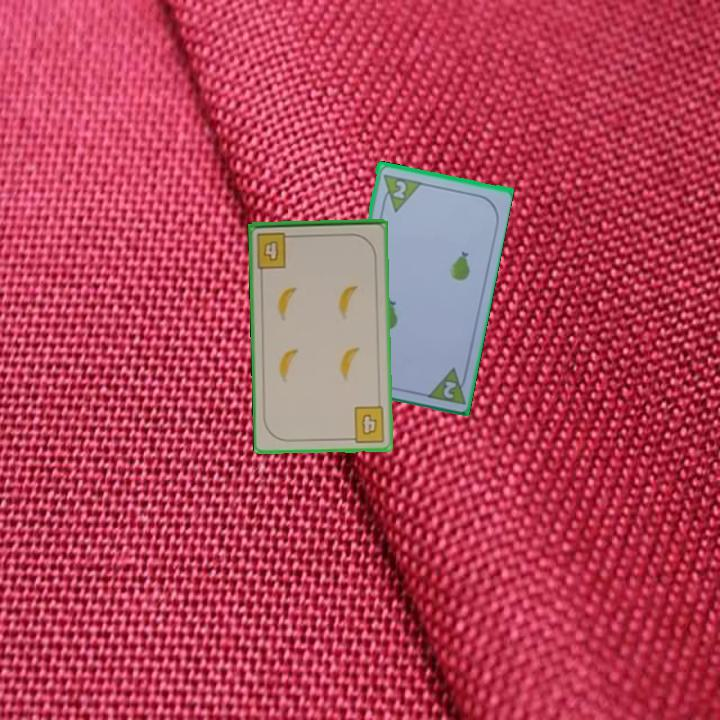2p: (439, 377, 459, 402), (389, 177, 409, 201)
4b: (253, 228, 297, 271), (344, 403, 388, 445)
